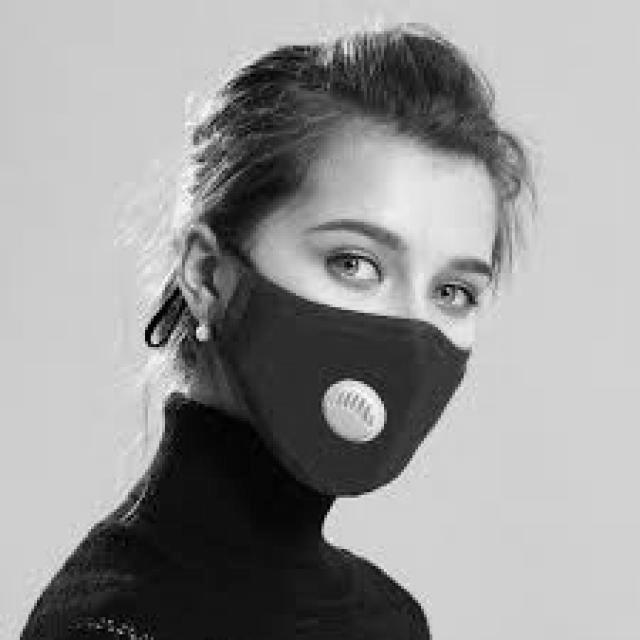fake: (199, 252, 483, 502)
real: (225, 115, 500, 496)
